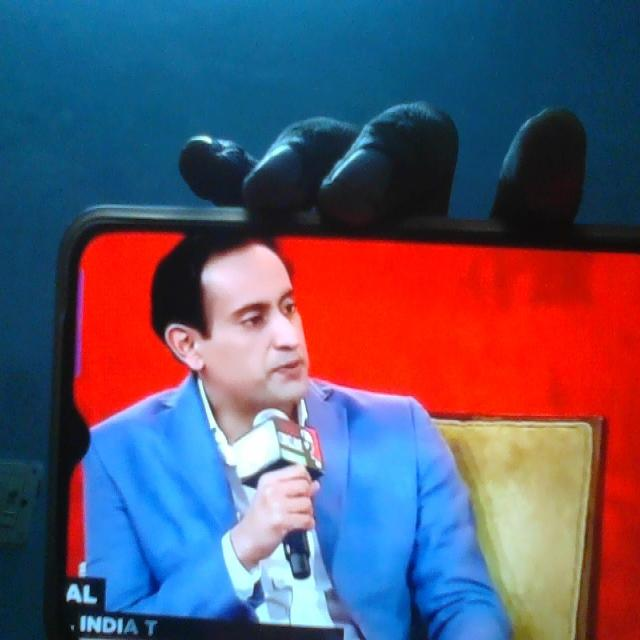fake: (188, 197, 310, 428)
